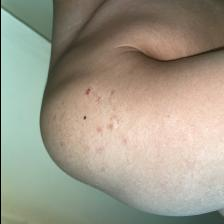Dermatitis kontak alergi: (90, 113, 130, 162), (76, 70, 106, 110)
Psoriasis vulgaris: (46, 110, 68, 148)
